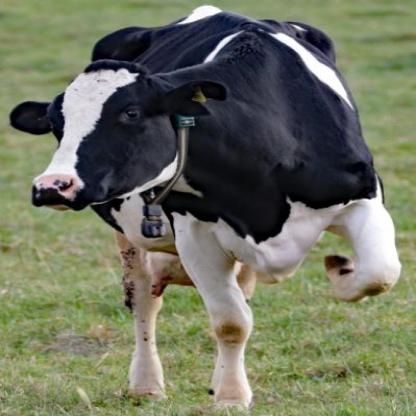cow: (9, 2, 402, 406)
